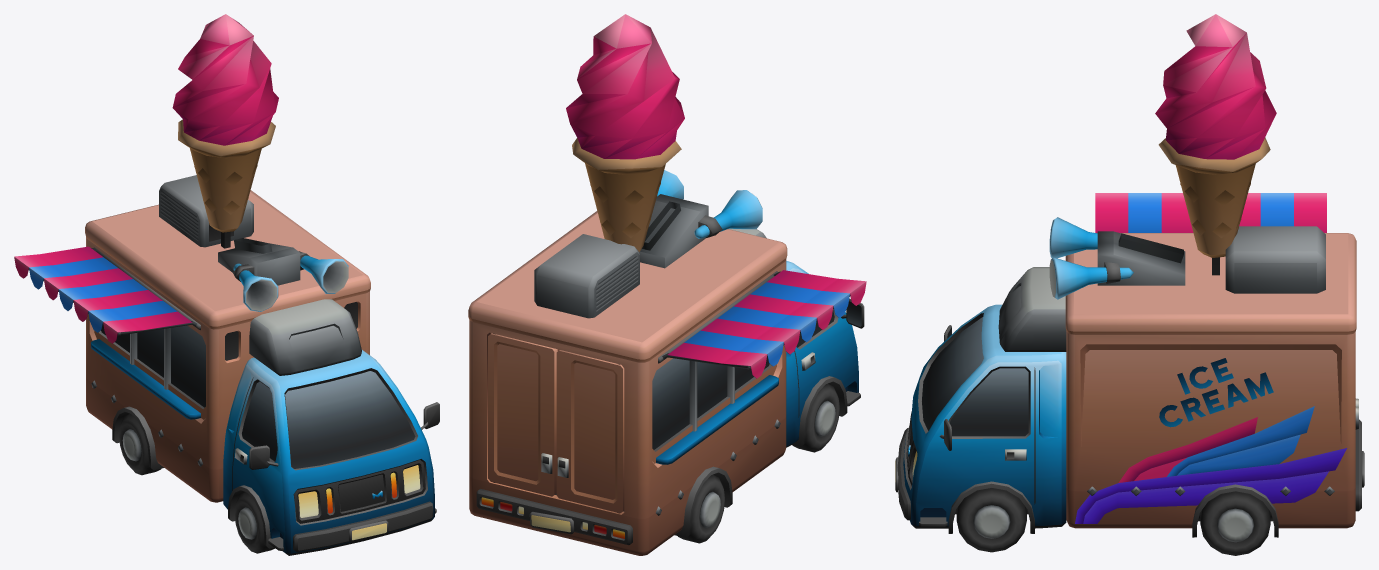
The model's file is Car_10D.fbx.
3 views of the same model, side by side, from view 1: azimuth 30°, elevation 25°; view 2: azimuth 150°, elevation 25°; view 3: azimuth 270°, elevation 25° (orthographic). The views are drawn at different scales.
Visible parts, largest first — view 1: Car_10D, Car_Cone_10D, Car_Shed_10D, Wheel_10D_F.R, Wheel_10D_R.R; view 2: Car_10D, Car_Cone_10D, Door_10D_R.L, Car_Shed_10D, Door_10D_R.R, Wheel_10D_F.R, Wheel_10D_R.R; view 3: Car_10D, Car_Cone_10D, Car_Shed_10D, Wheel_10D_R.L, Wheel_10D_F.L.
Boxes of the visible parts, x1,y1,x2,y2 form: Car_10D: (85,175,439,555); Car_Cone_10D: (172,14,278,248); Car_Shed_10D: (14,246,196,343); Wheel_10D_F.R: (234,492,275,553); Wheel_10D_R.R: (119,413,160,475); Car_10D: (468,170,864,555); Car_Cone_10D: (566,14,684,252); Door_10D_R.L: (488,333,557,496); Car_Shed_10D: (662,270,866,378); Door_10D_R.R: (556,350,624,513); Wheel_10D_F.R: (792,383,839,452); Wheel_10D_R.R: (678,474,724,543); Car_10D: (895,217,1364,537); Car_Cone_10D: (1155,14,1276,275); Car_Shed_10D: (1095,193,1326,232); Wheel_10D_R.L: (1200,491,1270,555); Wheel_10D_F.L: (956,488,1026,552).
Bounding box in the file's own units: 377 × 625 × 534.
